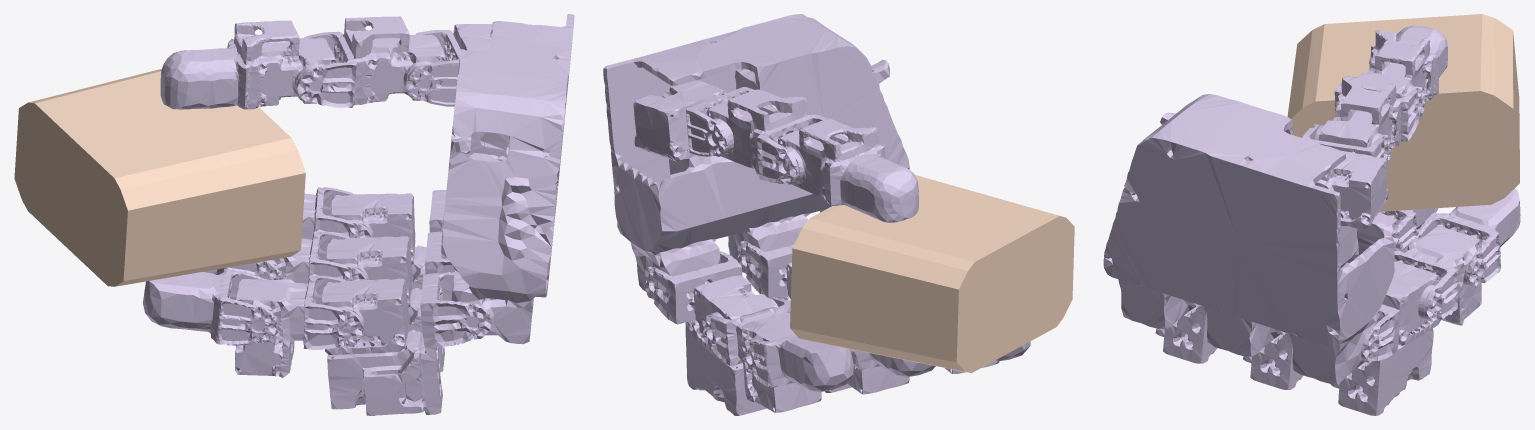
Rendered from 974354fdc8c44d-final.glb.
3 renders of one model, left to right at view 1: azimuth 30°, elevation 25°; view 2: azimuth 150°, elevation 25°; view 3: azimuth 270°, elevation 25°, orthographic. The views are drawn at different scales.
Parts seen in each view (by area): view 1: LEAP_hand, world; view 2: LEAP_hand, world; view 3: LEAP_hand, world.
Part boxes in pixels (bbox=[...]): LEAP_hand: bbox=[143, 14, 574, 415]; world: bbox=[14, 69, 305, 286]; LEAP_hand: bbox=[603, 14, 1030, 415]; world: bbox=[790, 175, 1074, 373]; LEAP_hand: bbox=[1103, 25, 1520, 415]; world: bbox=[1287, 14, 1519, 211].
Bounding box in the file's own units: 0.2263 × 0.1456 × 0.1853.
